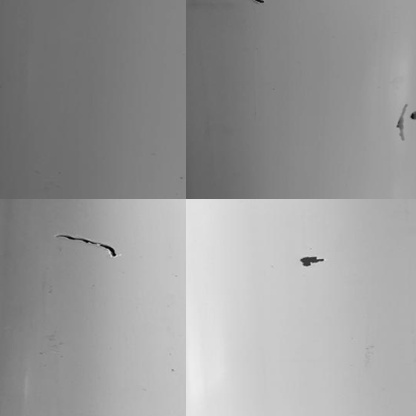fengxi: (52, 231, 131, 260)
kongdong: (297, 255, 326, 271)
